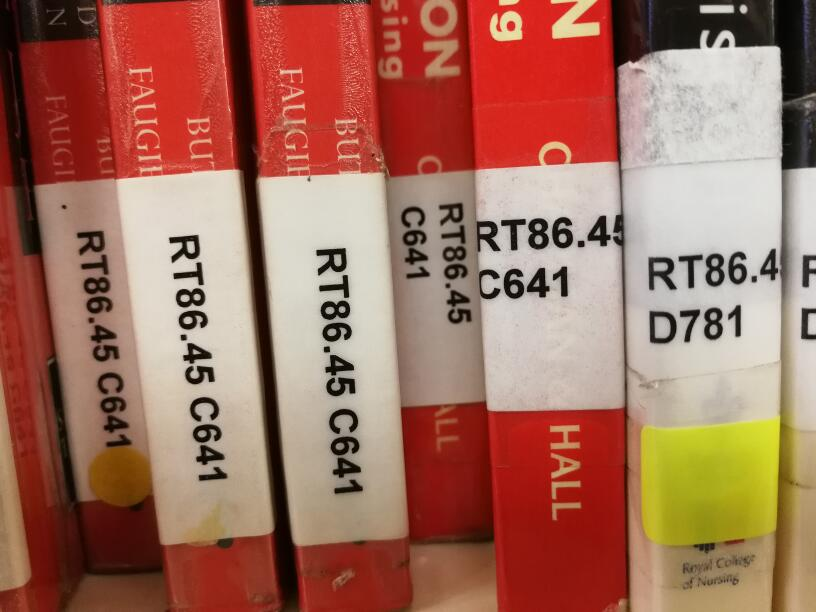booklabel: (164, 231, 229, 483), (70, 227, 134, 451), (643, 243, 782, 346), (312, 245, 368, 496), (471, 213, 629, 300), (399, 198, 475, 326)
